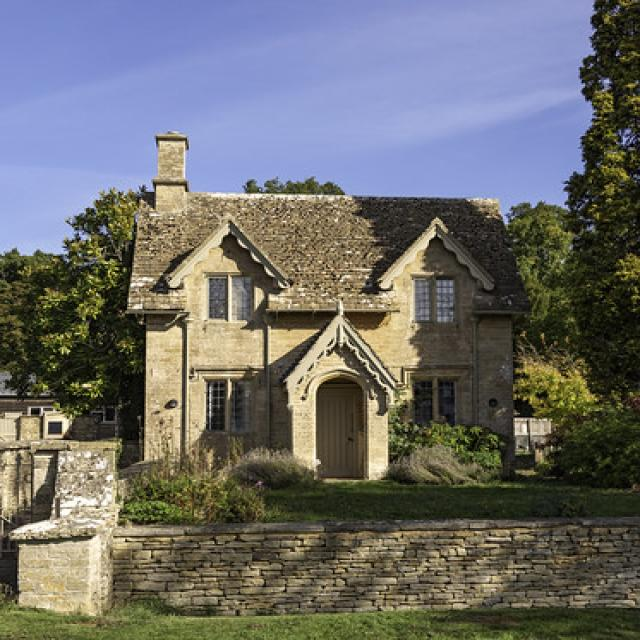building: (117, 130, 535, 490)
